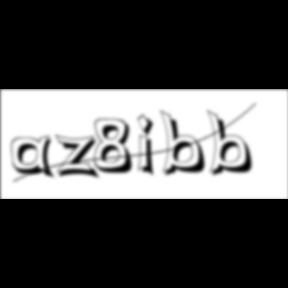8: (94, 117, 140, 176)
a: (11, 135, 59, 182)
b: (206, 109, 260, 179), (160, 109, 213, 179)
i: (138, 112, 162, 180)
z: (55, 134, 104, 182)
